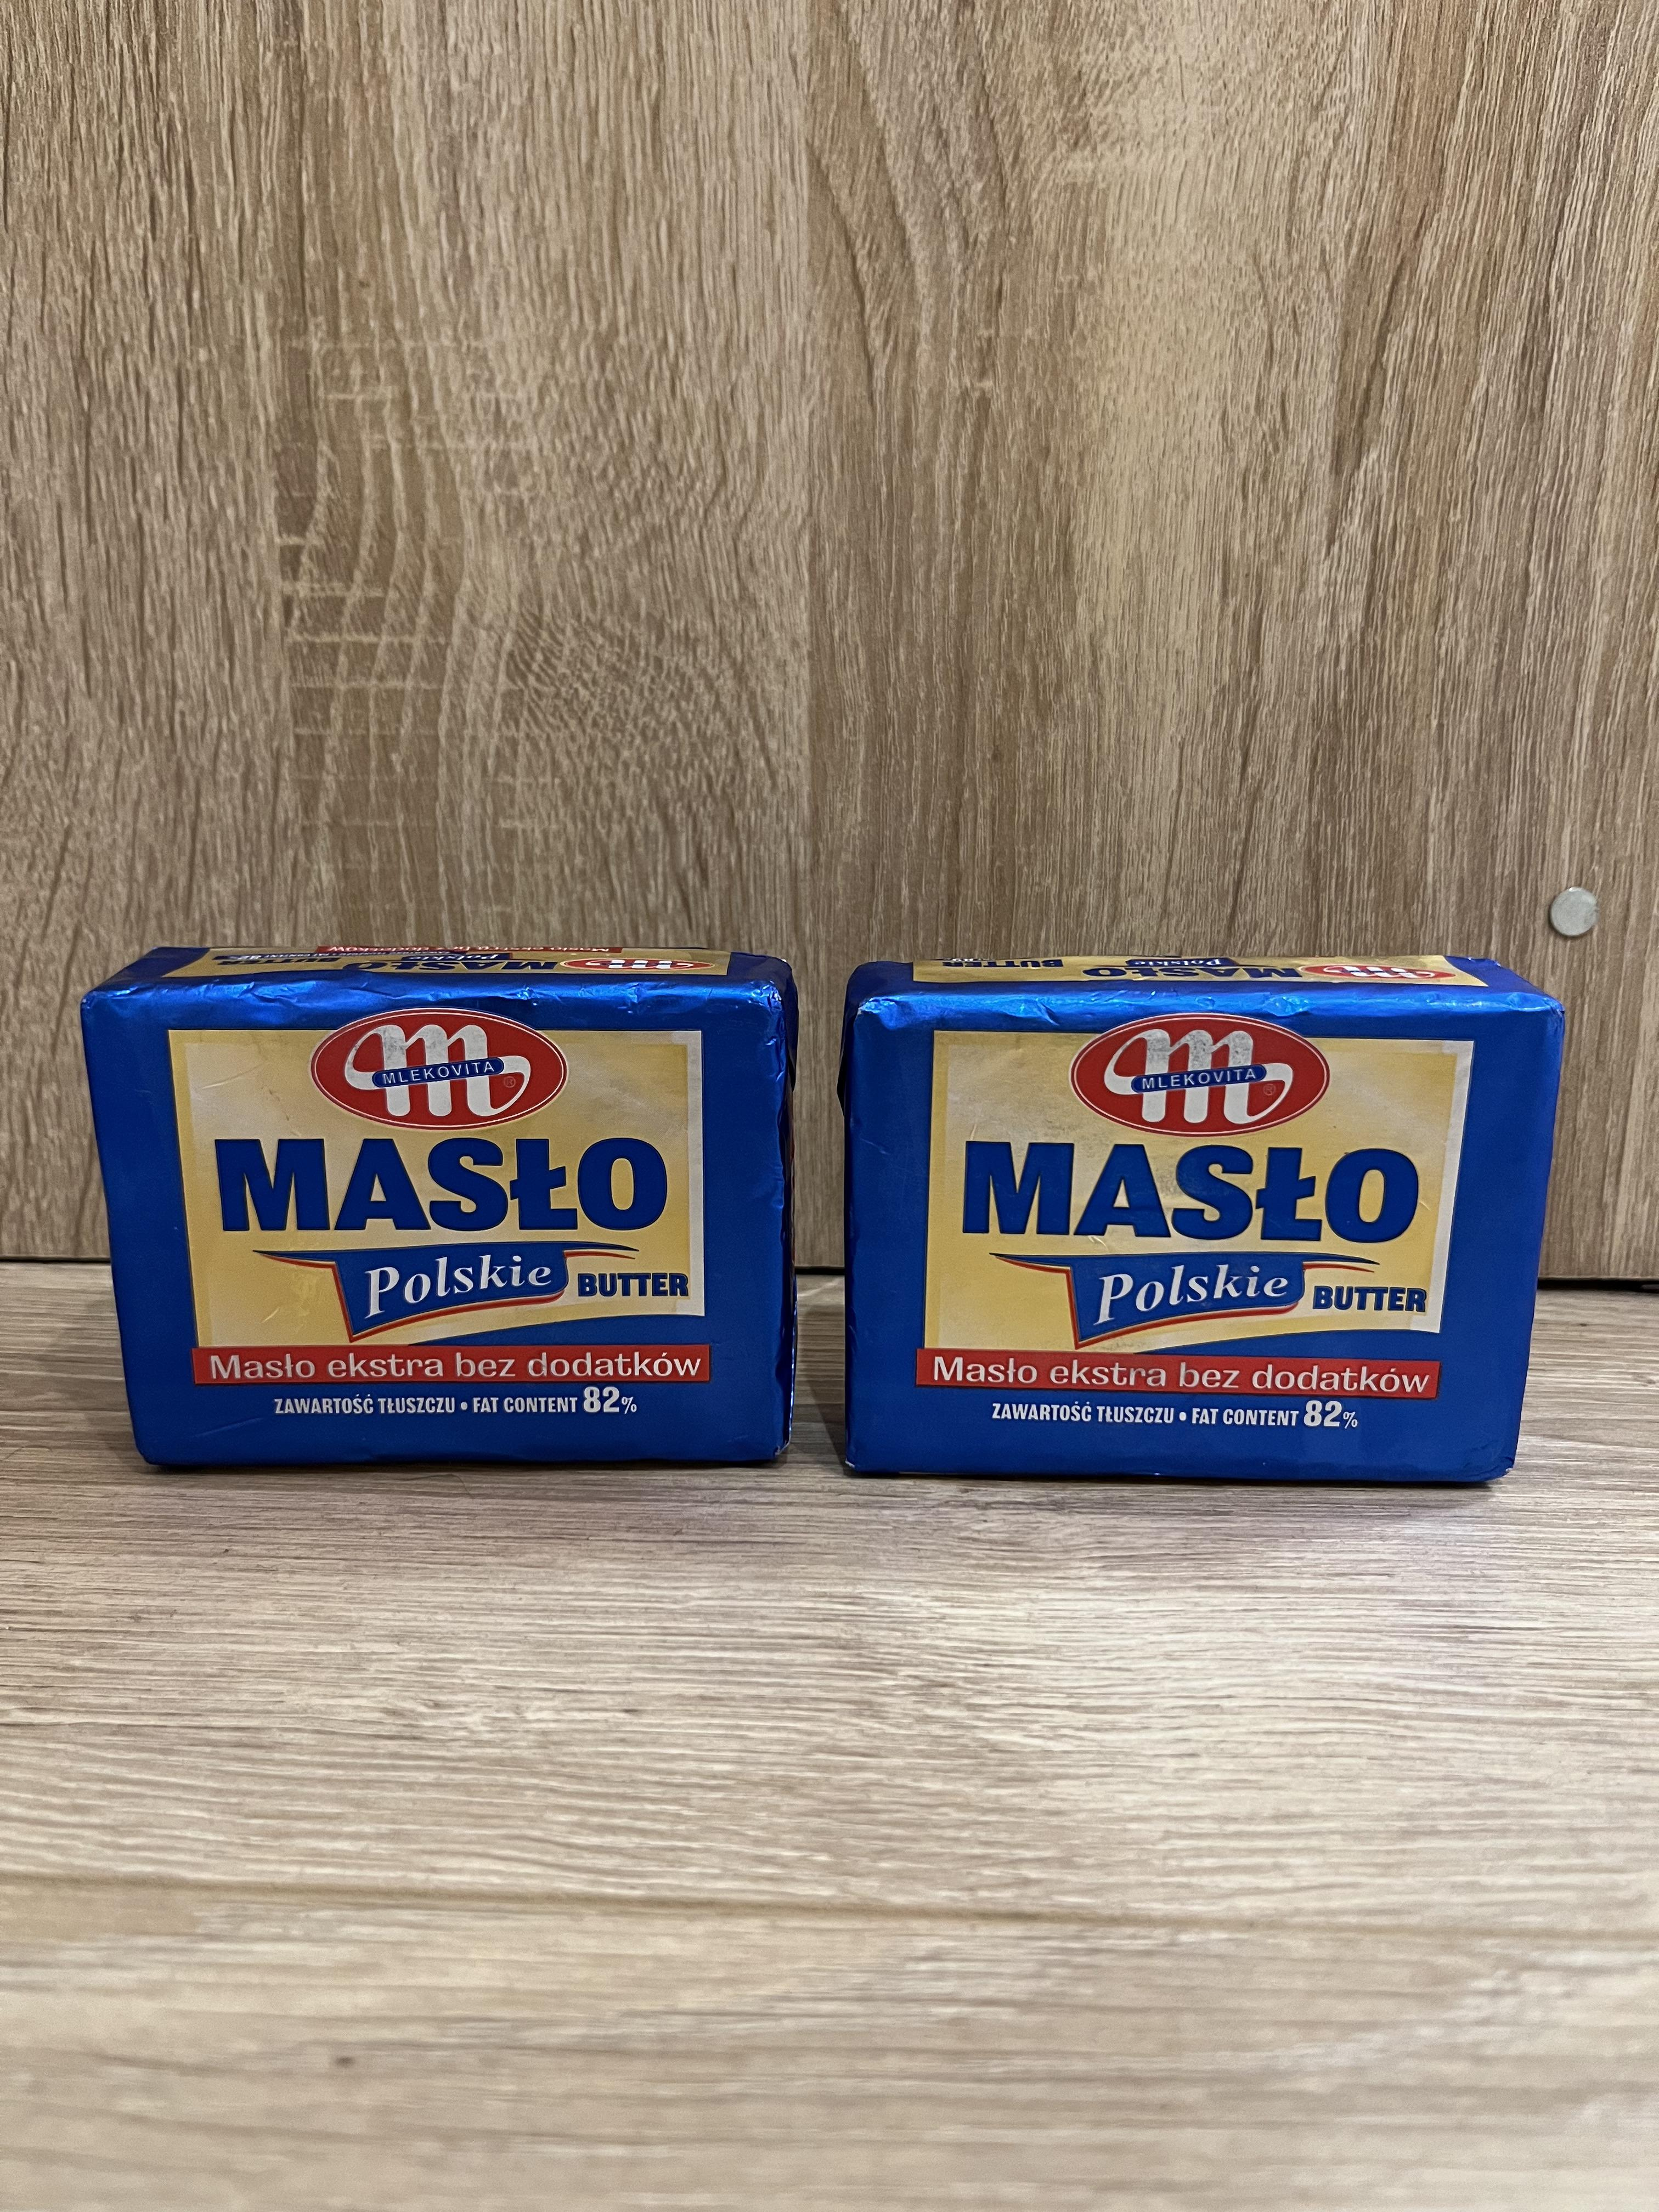Butter: (847, 953, 1560, 1493), (84, 944, 800, 1474)
